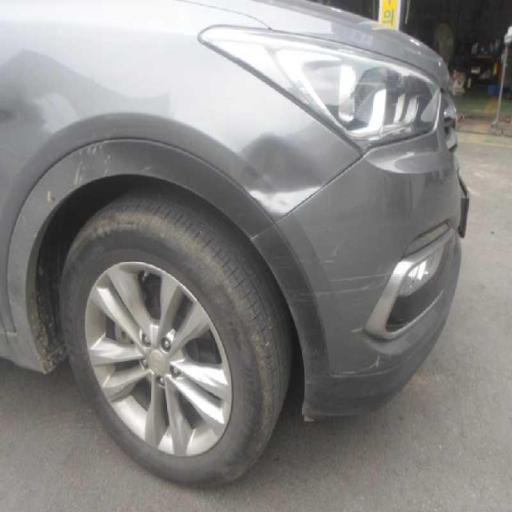dent: (237, 84, 352, 238)
scratch: (17, 54, 405, 486)
